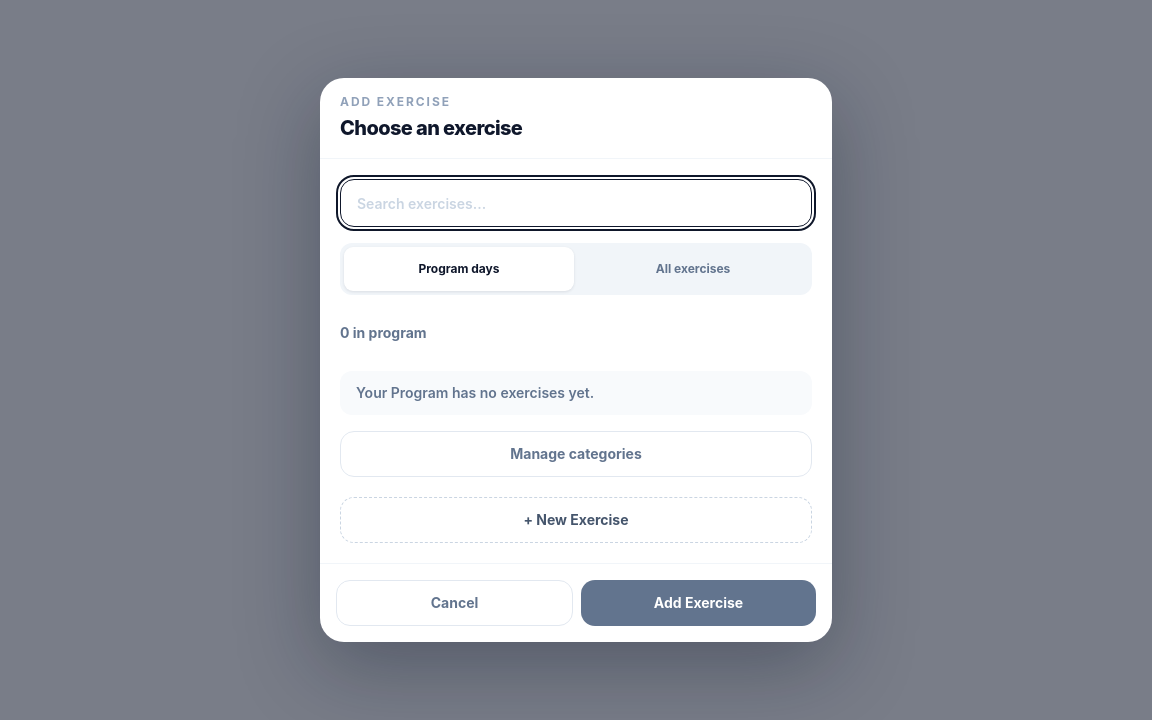
Test: exercise rename picker flow › keeps a duplicate name error in the editor without discarding the typed name
The image size is (1152, 720).
Click the tab "All exercises".
click(693, 269)  # box 578,247 -> 808,291
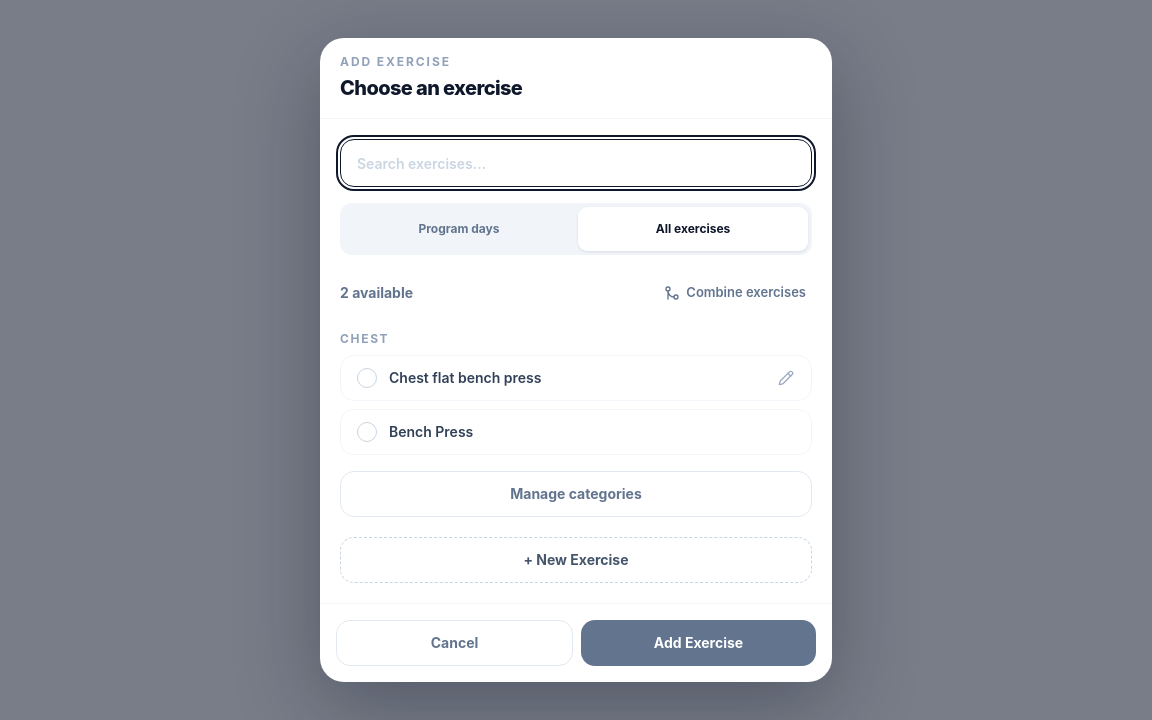
Click the button named "Edit exercise Chest flat bench press".
click(786, 378)  # box 764,356 -> 808,400
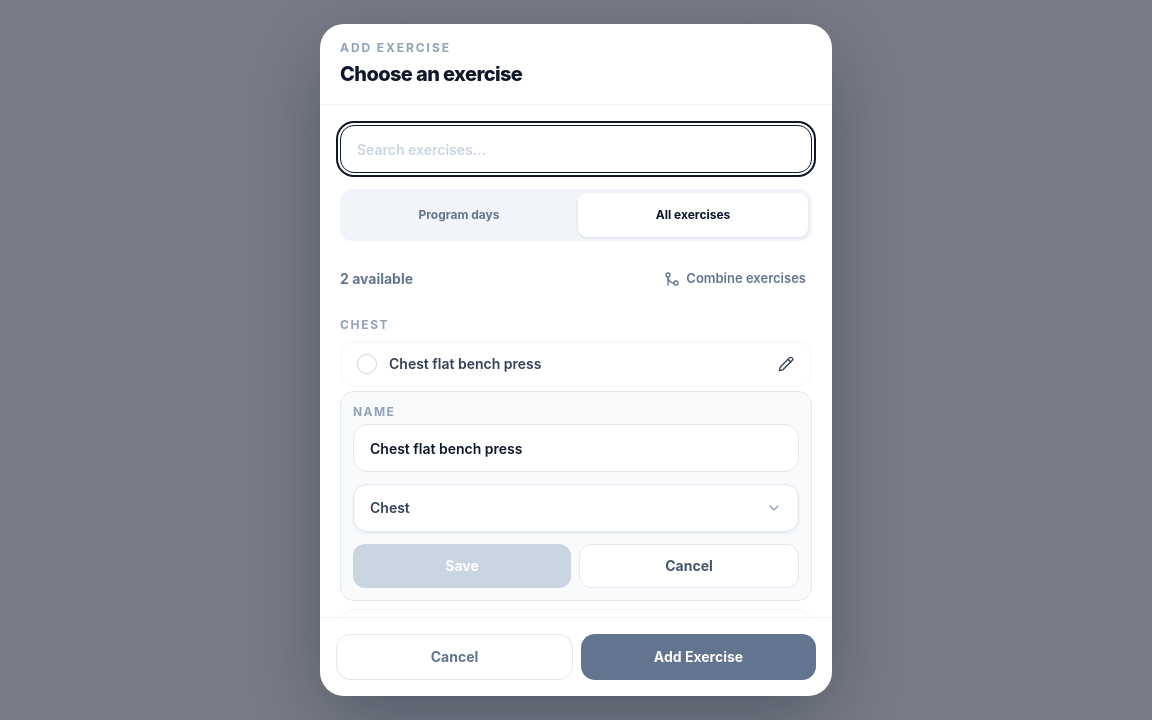
Replace the text in the field labelled "Name" with "Bench Press" at x=576, y=448, box 353,424 -> 799,472
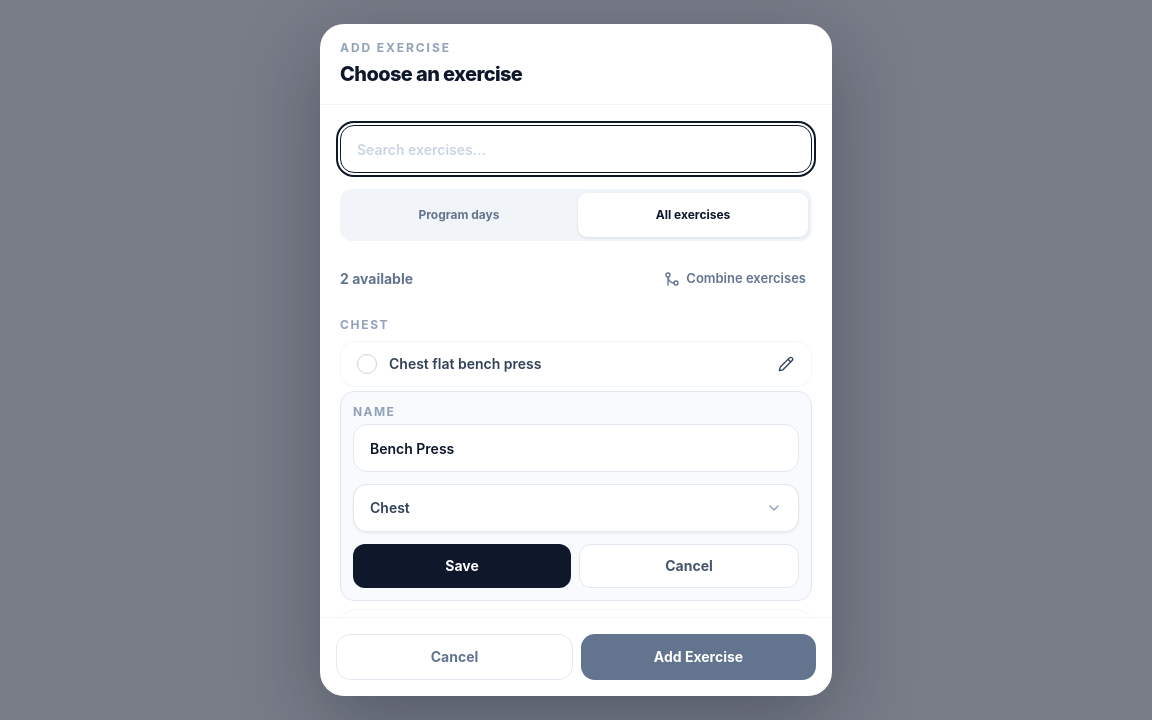
Click the button "Save".
click(462, 566)  # box 353,544 -> 571,588
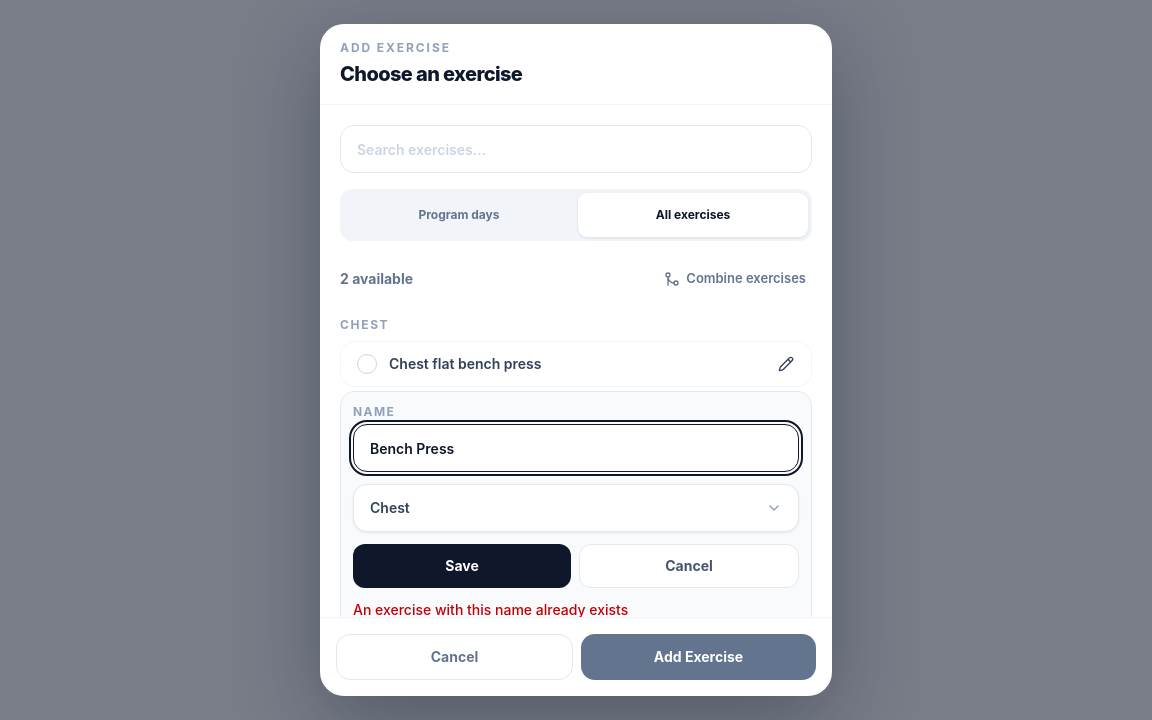
Check: the element named "Exercise editor for Chest flat bench press" is shown, box 340,391 -> 812,617
Check: the message reads "An exercise with this name already exists", box 353,601 -> 628,617
